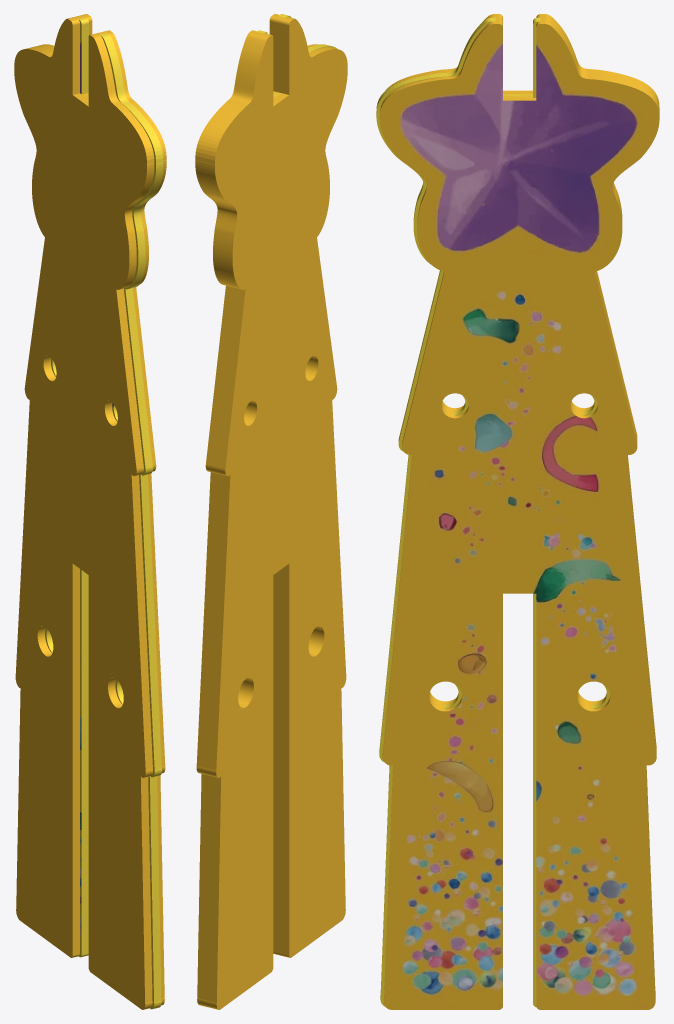
File: tall-stabilizer-04.glb
3 views of the same model, side by side, from view 1: azimuth 30°, elevation 25°; view 2: azimuth 150°, elevation 25°; view 3: azimuth 270°, elevation 25° (orthographic). The views are drawn at different scales.
Visible parts, largest first — view 1: tall-stabilizer-04; view 2: tall-stabilizer-04; view 3: tall-stabilizer-04.
Boxes of the visible parts, left/top/right/bottom form: tall-stabilizer-04: left=14, top=14, right=166, bottom=1009; tall-stabilizer-04: left=195, top=14, right=347, bottom=1009; tall-stabilizer-04: left=376, top=14, right=659, bottom=1009.
Size of the model in its own units: 24 by 1095 by 285.
Materials: 4 (2 with a texture image).
